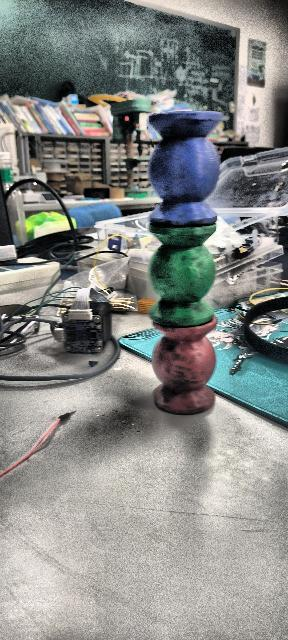blue: (146, 110, 224, 226)
green: (146, 223, 221, 328)
red: (149, 320, 219, 417)
